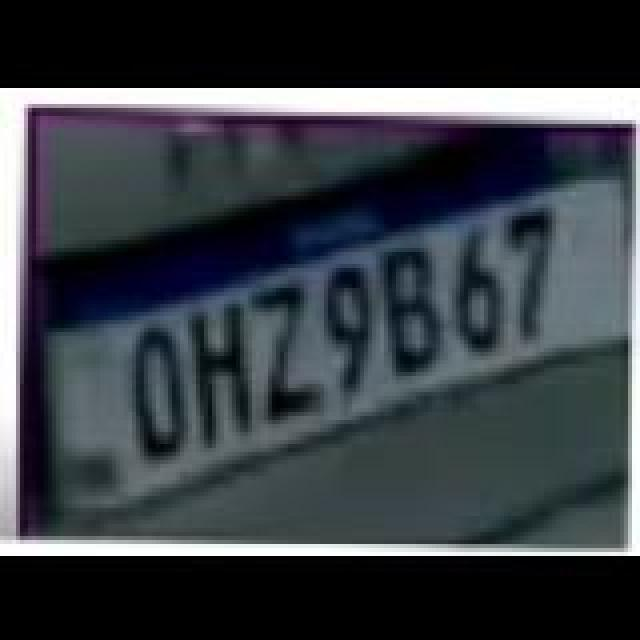6: (454, 232, 506, 352)
7: (506, 206, 558, 338)
9: (324, 260, 380, 396)
B: (380, 242, 444, 374)
H: (188, 298, 260, 446)
O: (130, 322, 190, 462)
Z: (260, 278, 324, 418)
